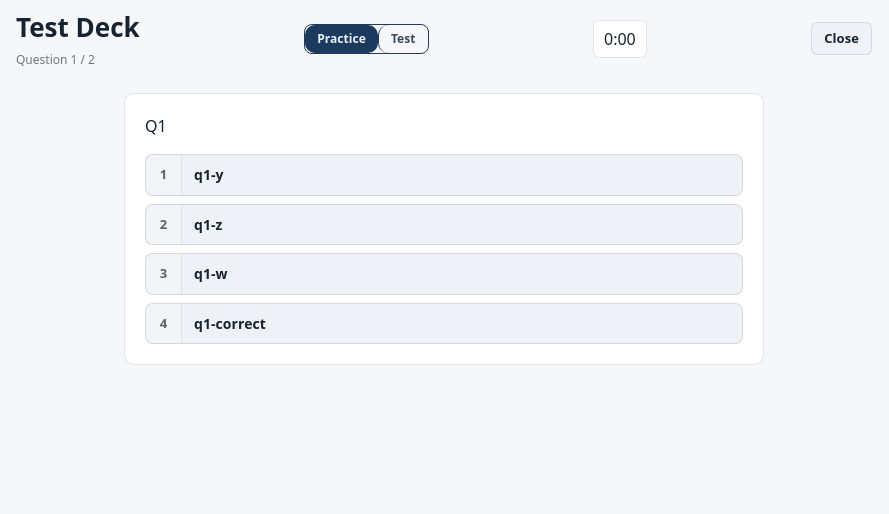
QuizRunner › clicking an option reveals the answer and shows Next/Finish
Expected: the text "Q1" is shown, [145, 115, 167, 137]
Click the text "q1-correct" at (230,323), box [194, 314, 266, 333]
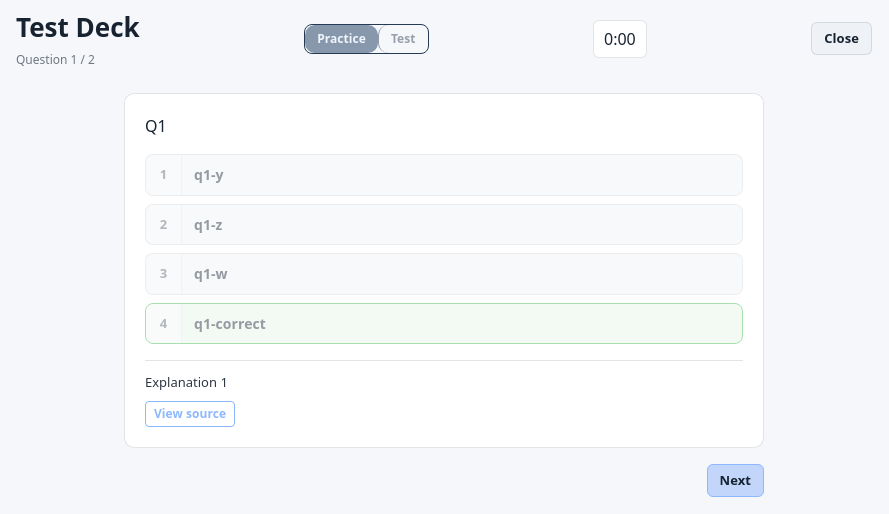
Expected: the text "Explanation 1" is shown, [145, 373, 228, 391]
Expected: the button "Next" is shown, [707, 464, 764, 497]
